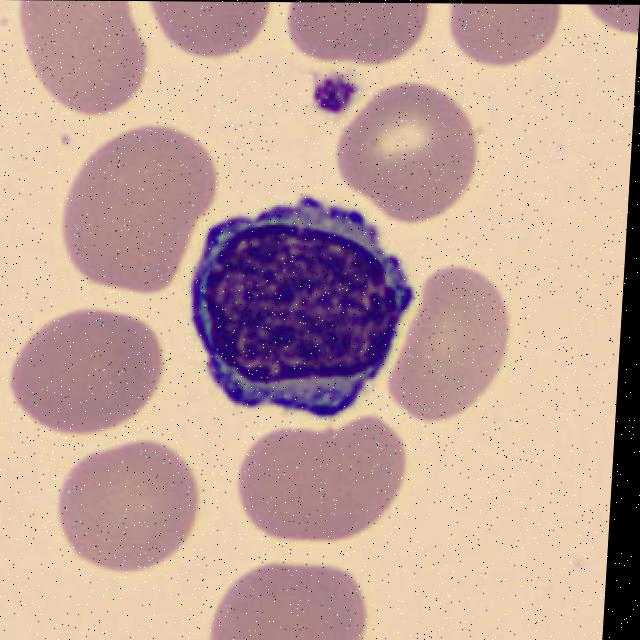lymphocyte: (178, 201, 413, 434)
platelets: (305, 71, 359, 122)
rbc: (61, 119, 215, 296), (240, 427, 402, 539), (339, 98, 473, 225), (11, 0, 154, 118), (403, 272, 512, 423), (65, 445, 195, 566), (14, 320, 157, 424), (210, 566, 371, 640), (284, 2, 421, 70), (439, 3, 555, 74), (139, 1, 267, 60), (582, 5, 640, 44), (0, 369, 5, 496)
